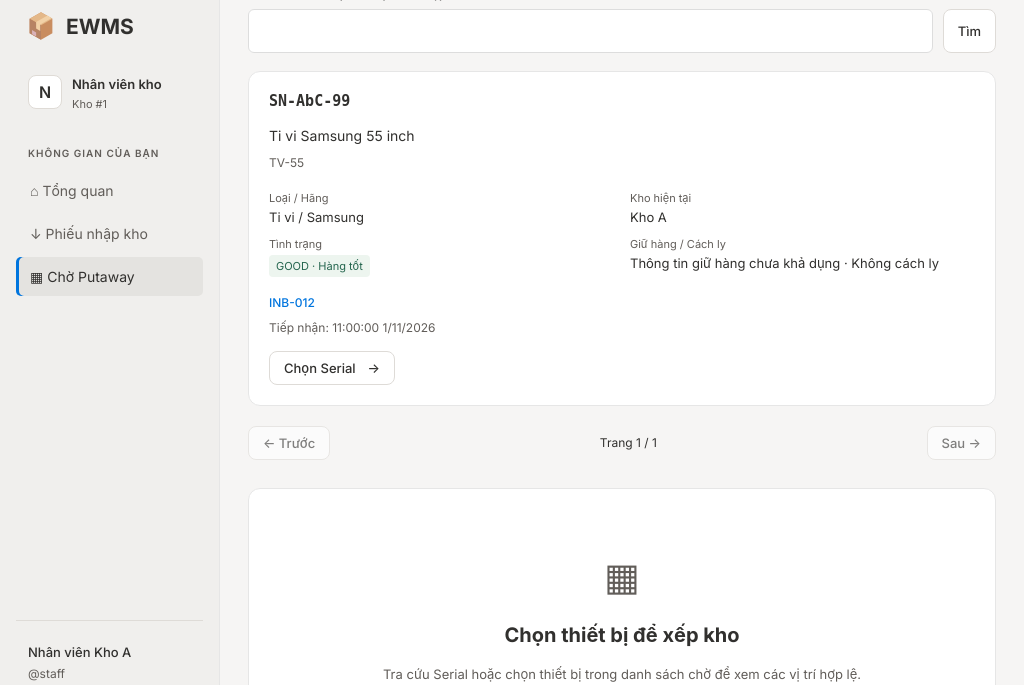
Test: removes the STANDARD helper sentence and immediately narrows combined accent-insensitive zone/rack searches
(page scrolled)
Click the button named "Chọn Serial SN-AbC-99": point(332, 368) [269, 351, 395, 385]
(page scrolled)
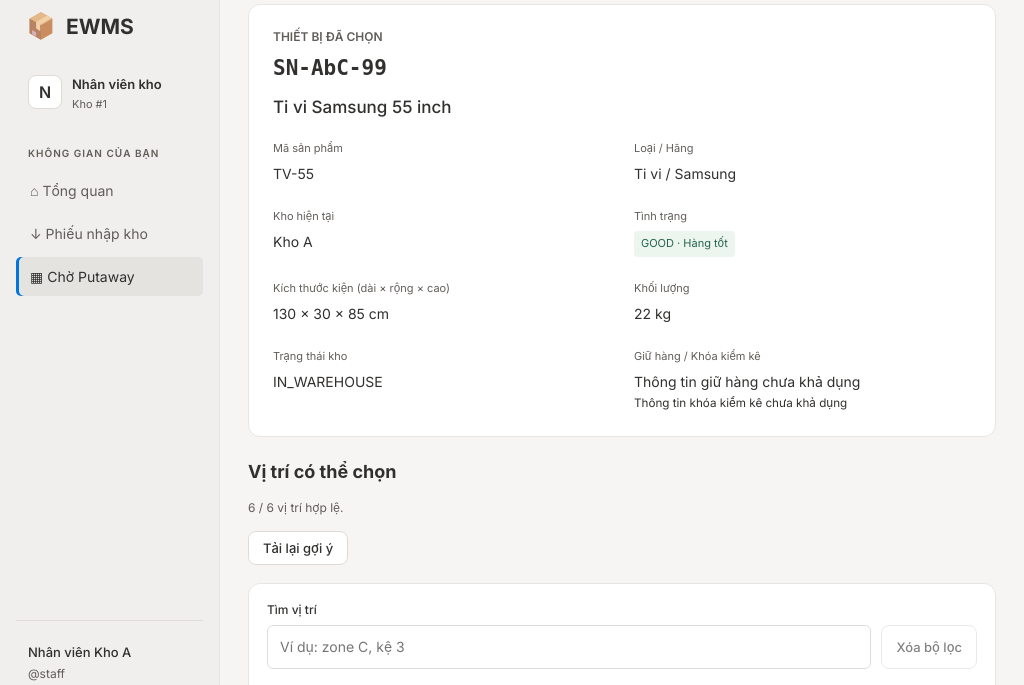
In the search field labelled "Tìm vị trí": point(569, 647) [267, 625, 871, 669], type "ZONE c, KE3"
(page scrolled)
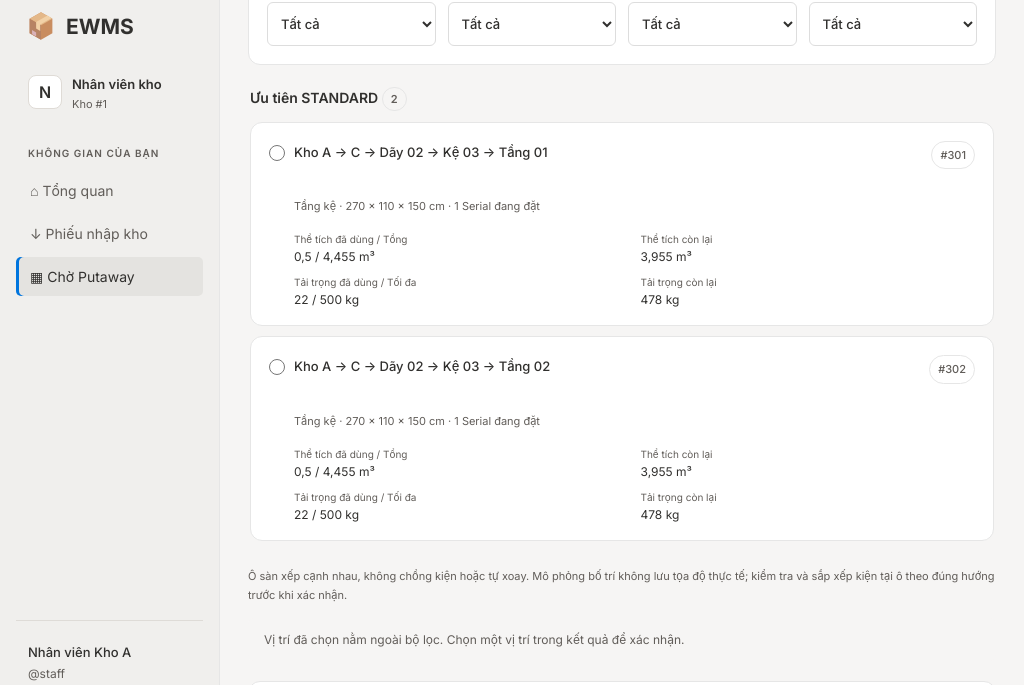
Check: the radio button labelled "C → Dãy 02 → Kệ 03 → Tầng 01" is shown, box [269, 145, 285, 161]
Check: the radio button labelled "C → Dãy 02 → Kệ 03 → Tầng 02" is shown, box [269, 359, 285, 375]
Check: the number of radio buttons is 2, box [269, 145, 285, 161]; [269, 359, 285, 375]
